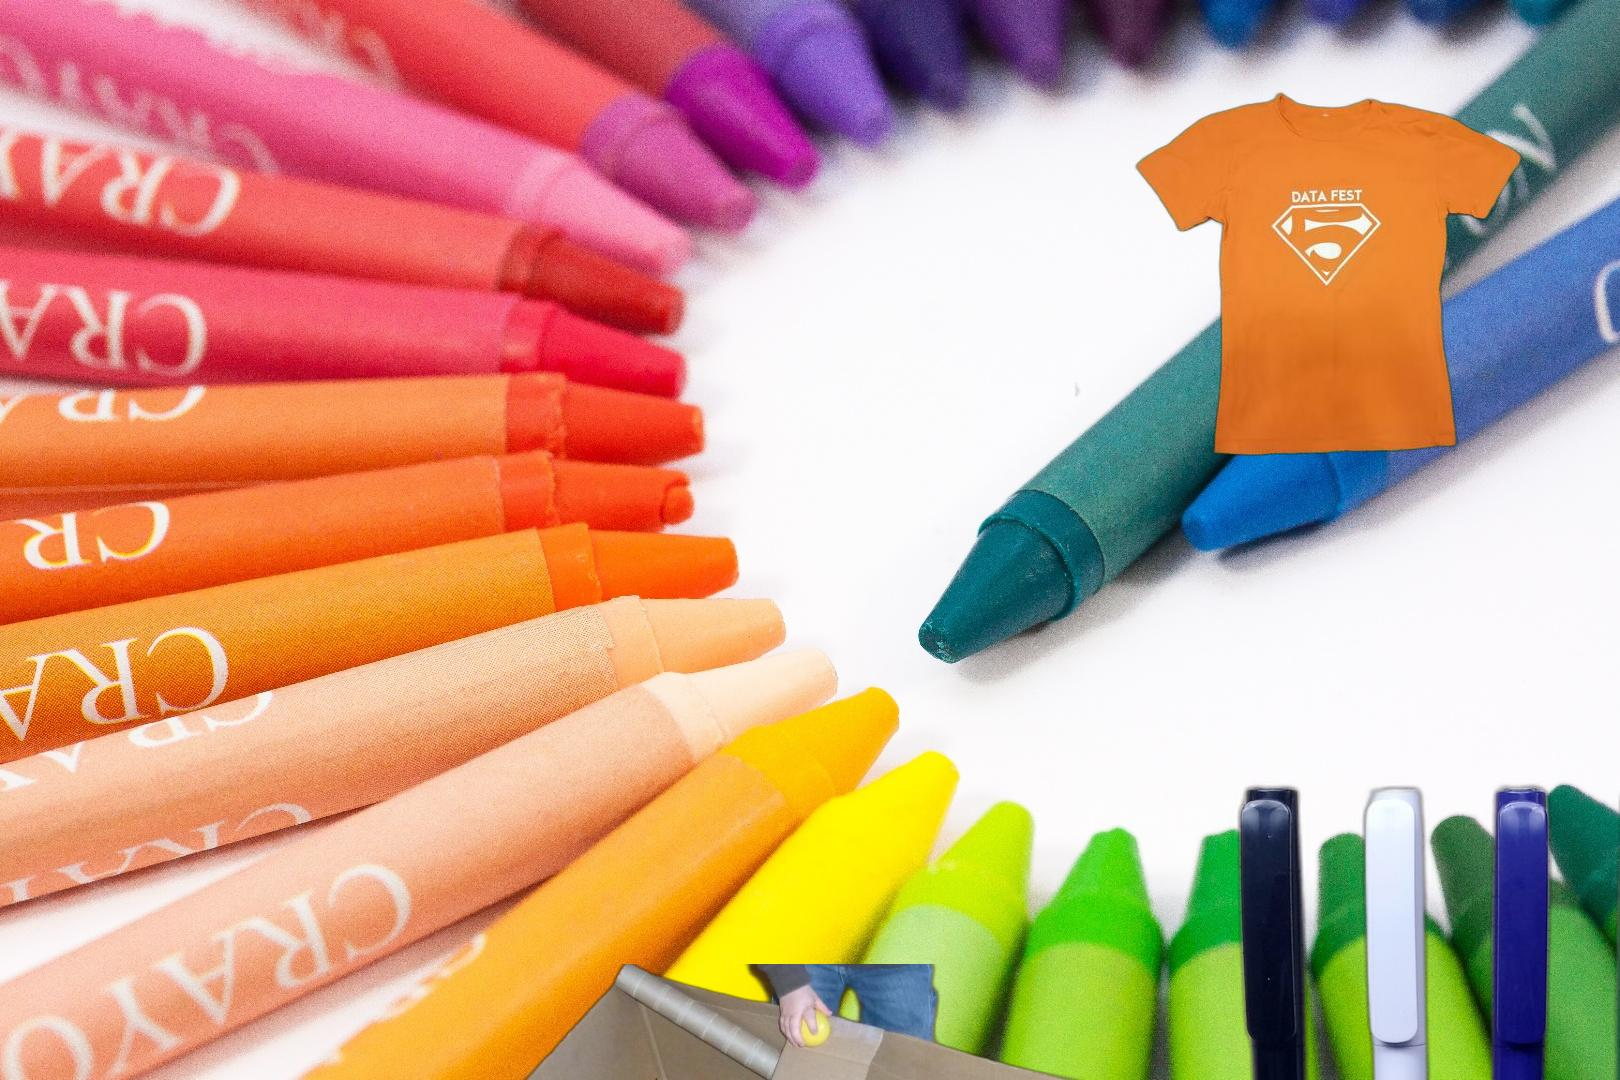clothes: (1075, 90, 1527, 472)
penholder: (1229, 777, 1620, 1080)
trashbox-cardboard: (380, 964, 1182, 1080)
